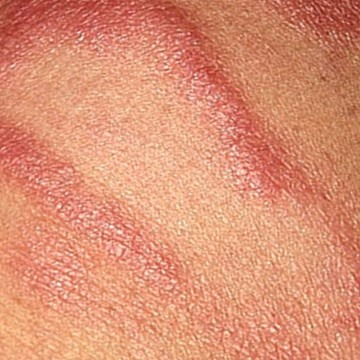Leprosy: (0, 111, 191, 326), (174, 82, 359, 209), (0, 2, 244, 80), (269, 1, 359, 61)
